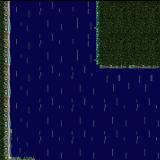Interaction: (0, 0, 17, 160), (16, 148, 42, 160)
Slow: (11, 69, 160, 156), (10, 0, 94, 67)
